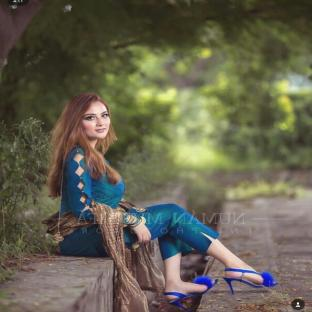Human: (43, 93, 278, 312)
